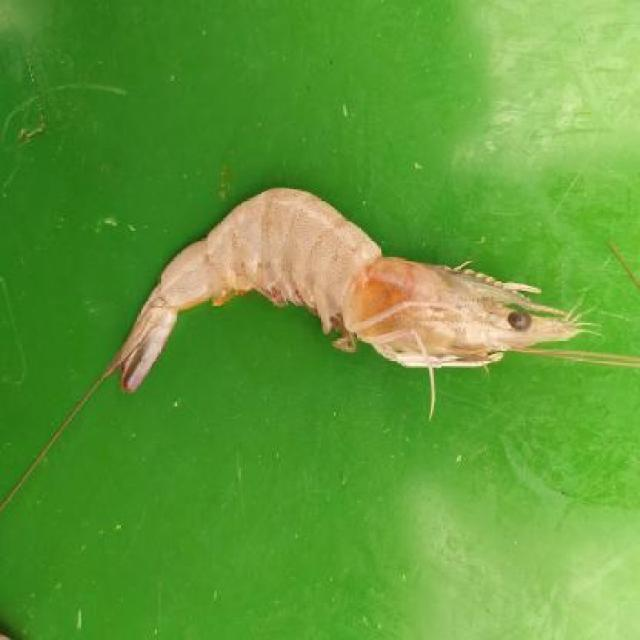shrimp: (119, 194, 590, 376)
